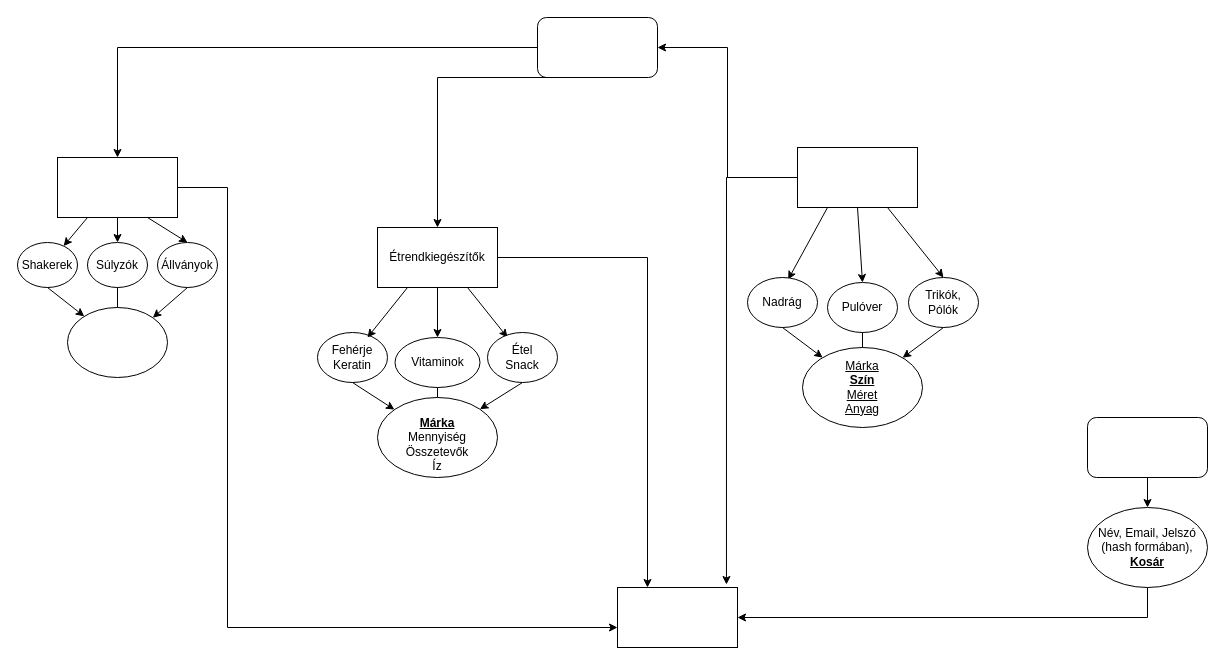
Image size: 1225x665. Some labels were removed from this diagram. Each missing label, with the box of its shape:
Felhasználói adatok: (1086, 416, 1208, 478)
Kiegészítők: (56, 156, 178, 218)
Kosár: (616, 586, 738, 648)
Márka Méret Anyag Szín: (66, 306, 168, 378)
Ruházat: (796, 146, 918, 208)
Termékek: (536, 16, 658, 78)
